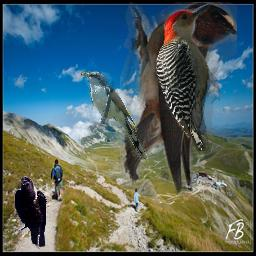Crow: (14, 176, 47, 249)
Cuckoo: (80, 71, 148, 160)
Swallow: (120, 2, 237, 195)
Woodpecker: (154, 3, 220, 151)
